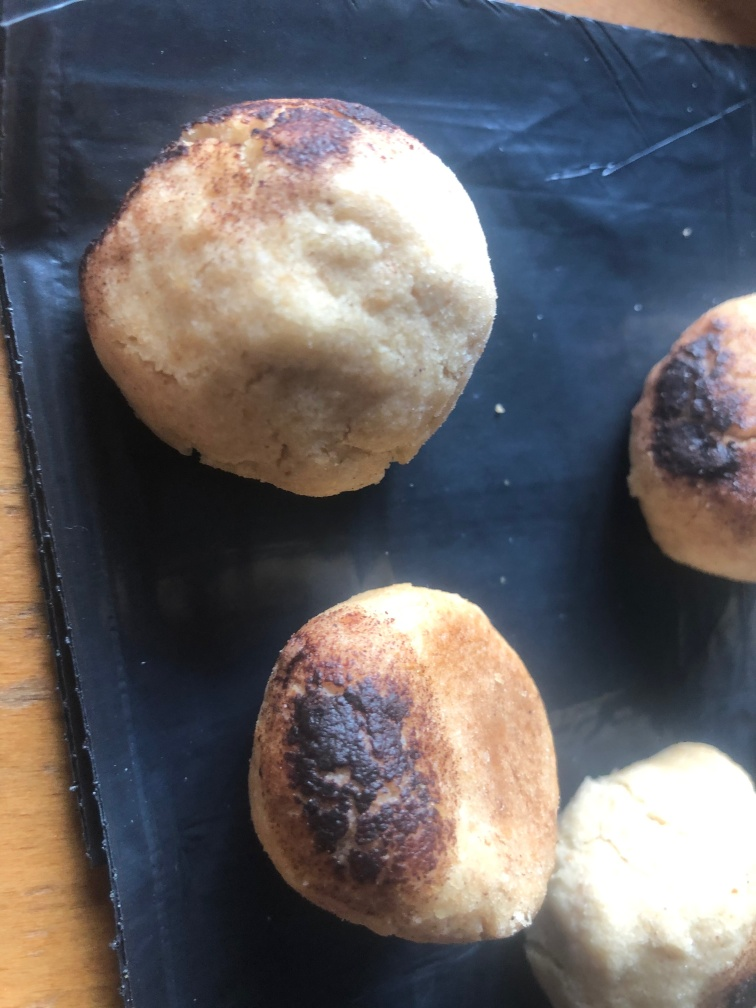snowball: (77, 94, 502, 509), (248, 582, 552, 935), (564, 745, 756, 995), (630, 289, 756, 584)
